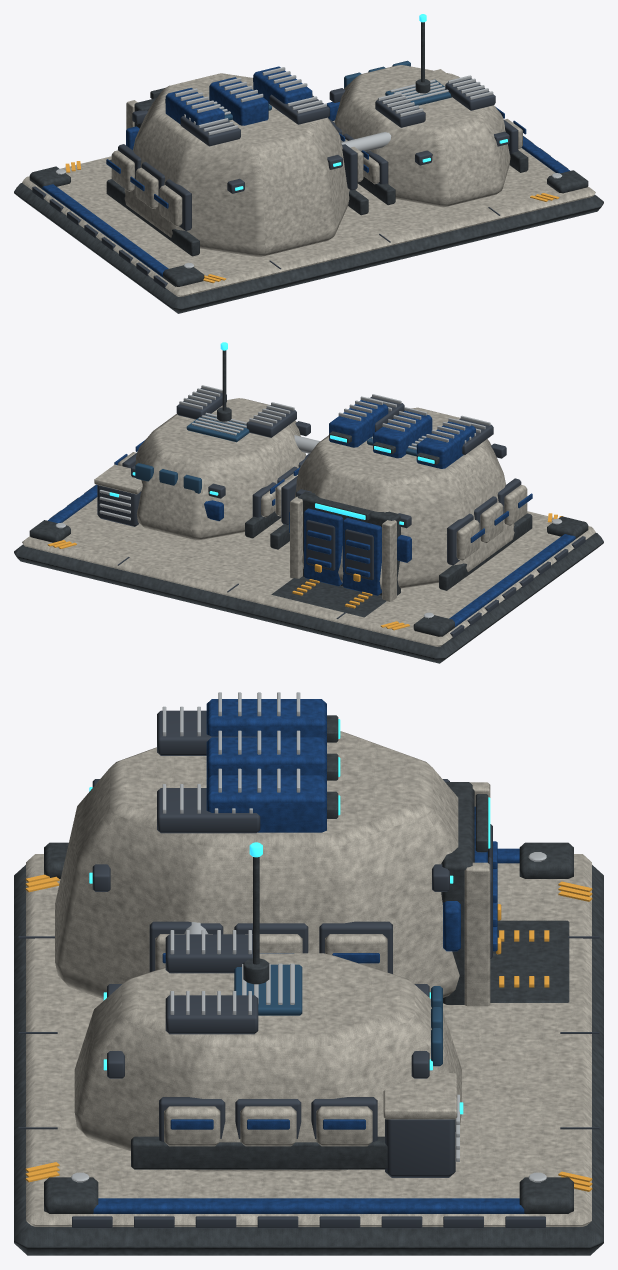
Rendered from solis_comptoir_technique.gltf.
The picture shows the model from 3 angles, top to bottom: view 1: azimuth 30°, elevation 25°; view 2: azimuth 150°, elevation 25°; view 3: azimuth 270°, elevation 25°; orthographic projection. The views are drawn at different scales.
Parts seen in each view (by area): view 1: Building.016_Geometry; view 2: Building.016_Geometry, Door_0_L.004_Geometry, Door_0_R.004_Geometry; view 3: Building.016_Geometry, Door_0_R.004_Geometry.
Boxes of the visible parts, x1,y1,x2,y2 form: Building.016_Geometry: (14,14,603,313); Building.016_Geometry: (14,342,603,663); Door_0_L.004_Geometry: (342,518,381,595); Door_0_R.004_Geometry: (304,508,343,586); Building.016_Geometry: (14,692,603,1255); Door_0_R.004_Geometry: (474,840,501,958).
Size of the model in its own units: 5.92 by 2.31 by 3.92.
Materials: 8 (3 with a texture image).
